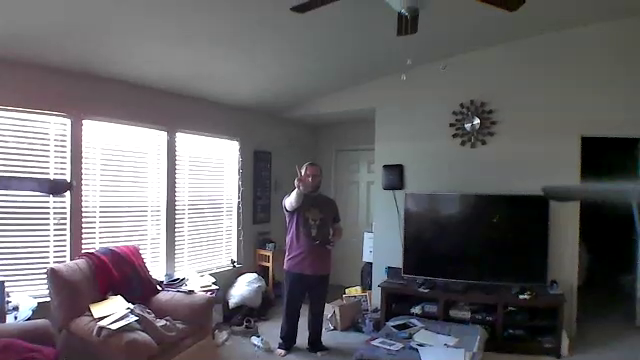peace: (290, 160, 311, 193)
